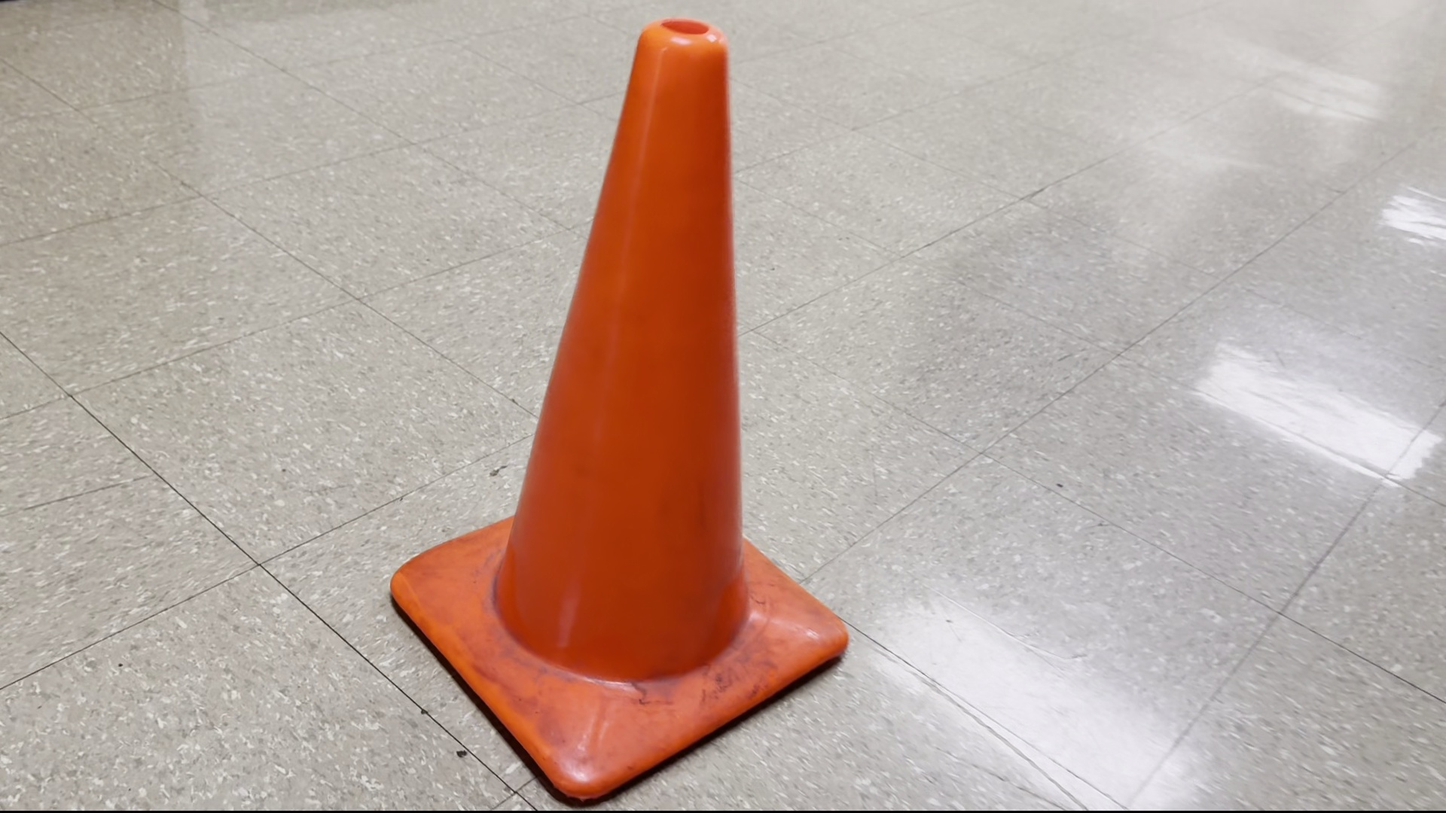traffic_cone: (388, 17, 850, 805)
